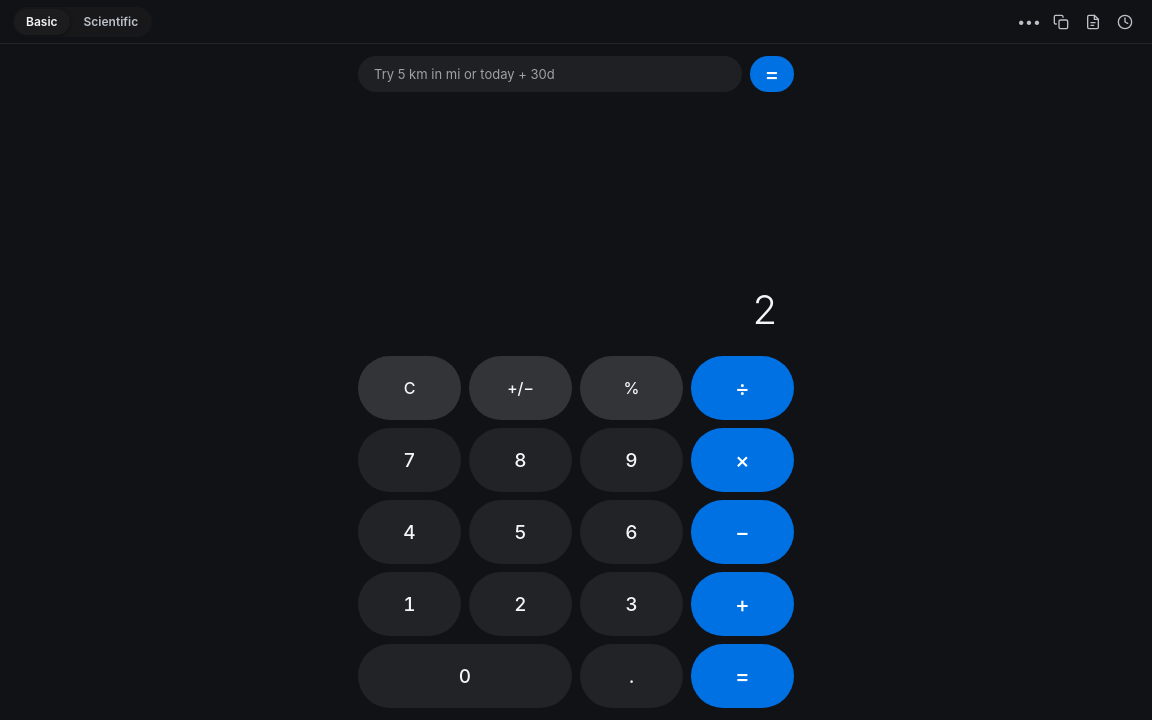
Scenario: Calculator and Unit Converter › handles dates, percentage helpers, constants and a lossless precision override in the converter handoff
Earlier steps of the test are not shown.
Later steps or results of the test are not shown.
Type "days until friday" into the field named "Natural calculation input" at point(550, 74), box [358, 56, 742, 92]
Click the button named "Evaluate expression" at point(772, 74), box [750, 56, 794, 92]
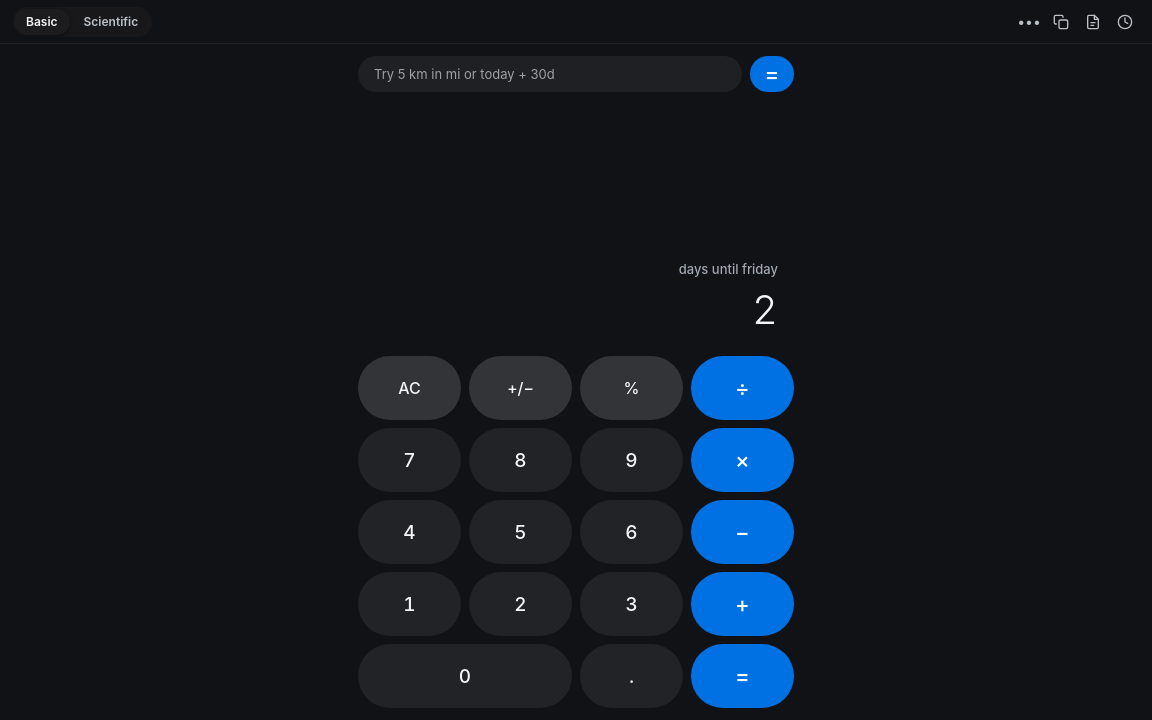
Click the button named "Calculator tools" at point(1029, 22), box [1014, 6, 1044, 36]
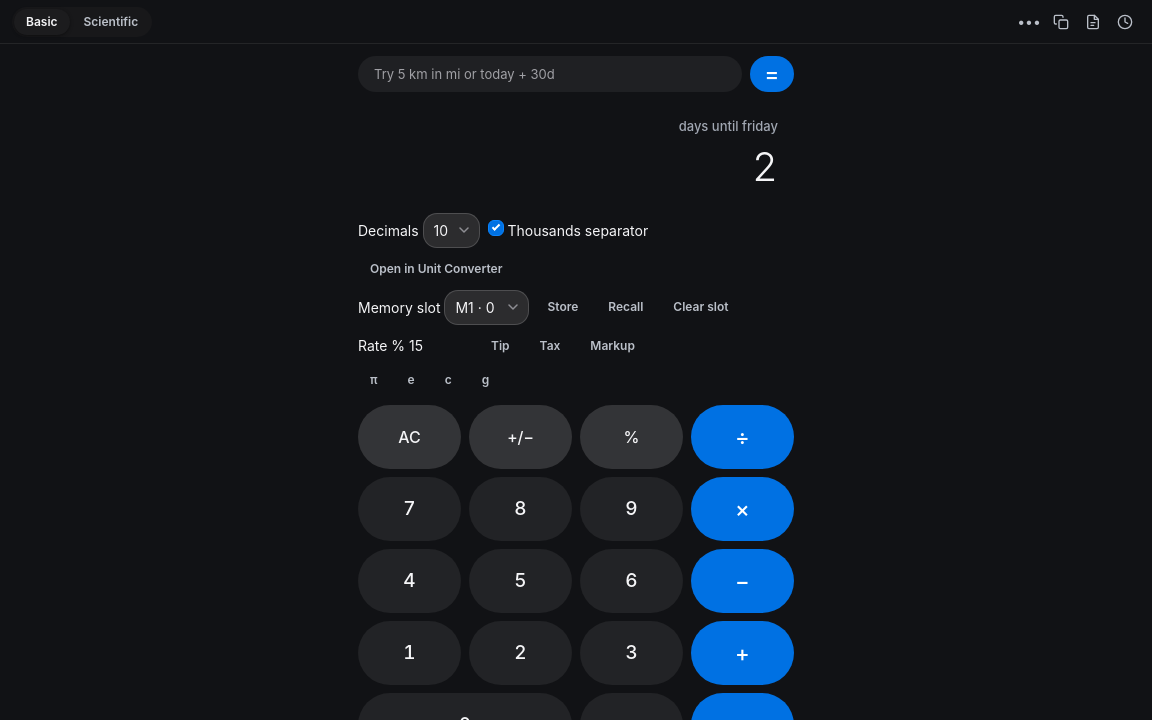
Type "100" into the field named "Natural calculation input" at point(550, 74), box [358, 56, 742, 92]
Click the button named "Evaluate expression" at point(772, 74), box [750, 56, 794, 92]
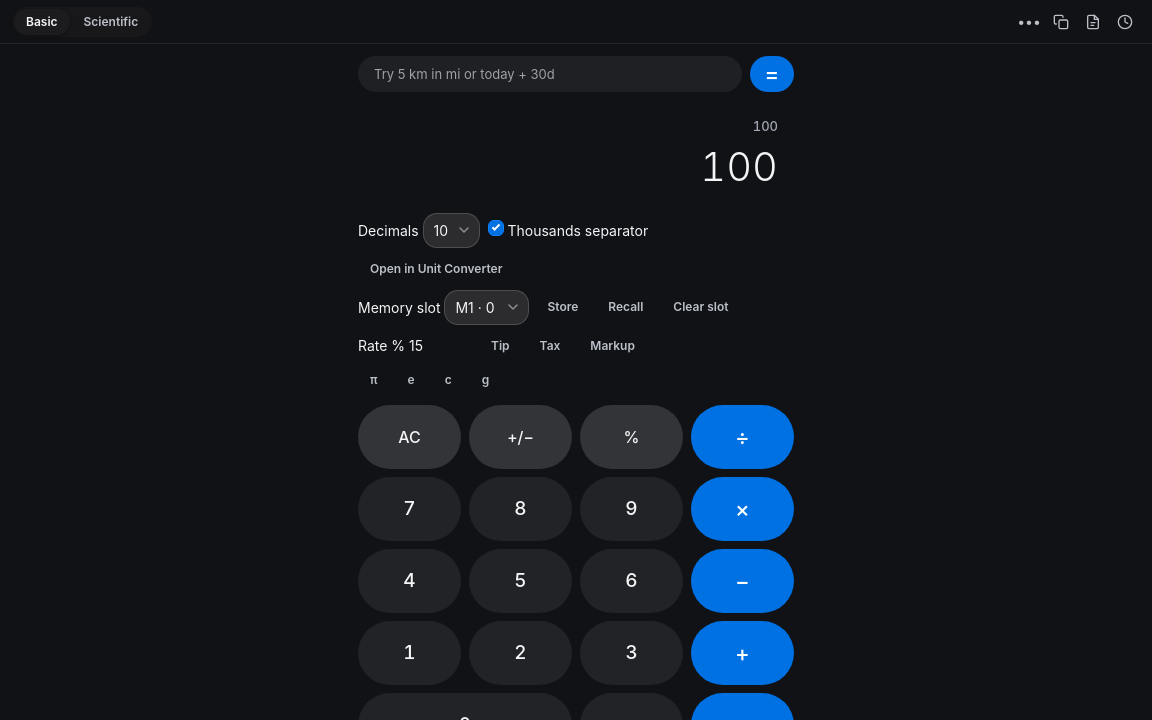
Click the button "Tip" at point(500, 346), box [479, 333, 522, 359]
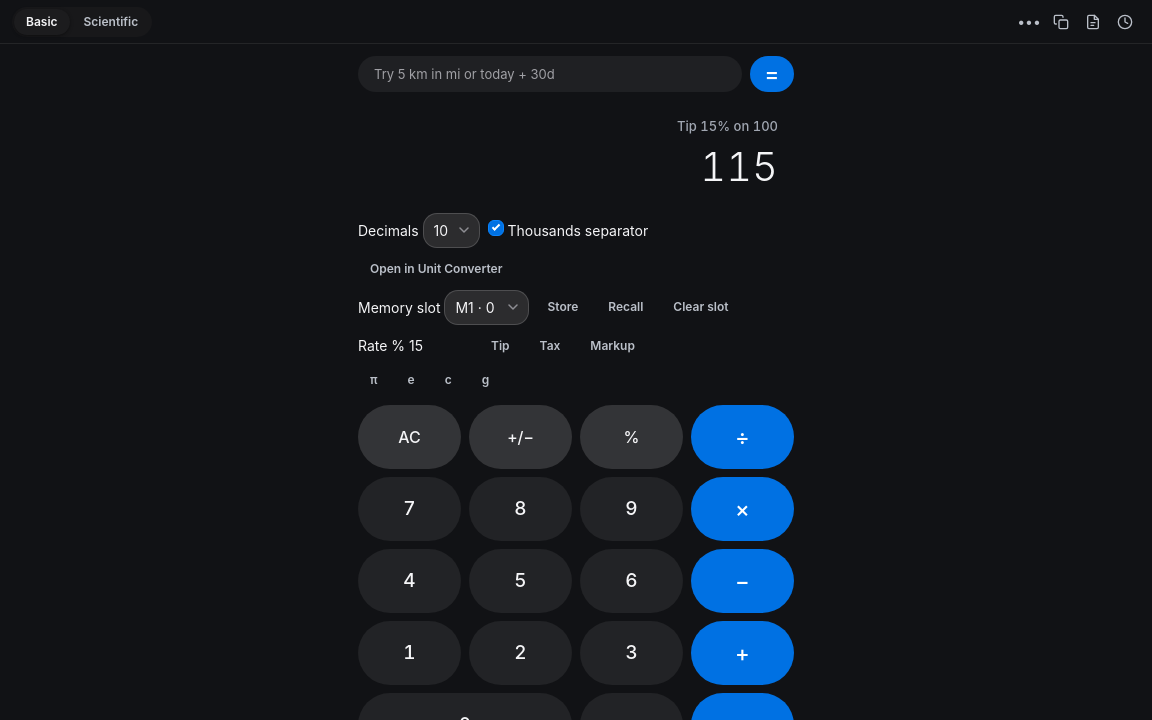
Click the button "Tax" at point(550, 346), box [528, 333, 572, 359]
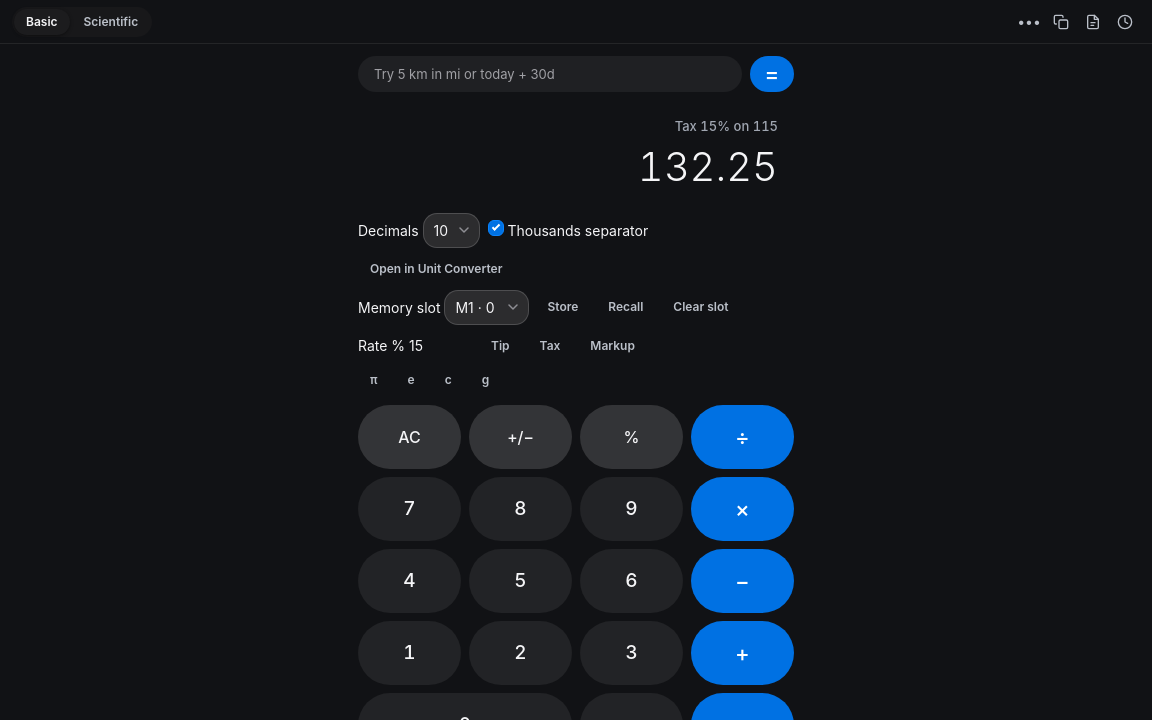
Click the button "Markup" at point(613, 346), box [578, 333, 647, 359]
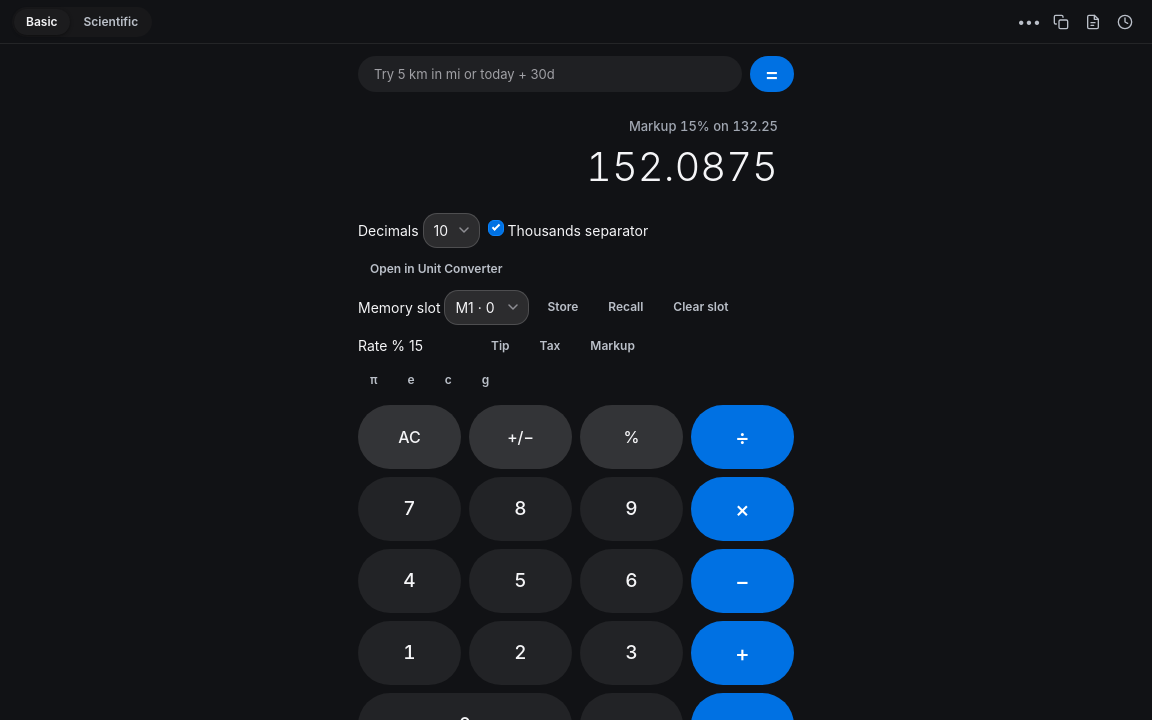
Now the button named "Insert c" is enabled, box [433, 367, 464, 393]
Now the button named "Insert g" is enabled, box [470, 367, 501, 393]
